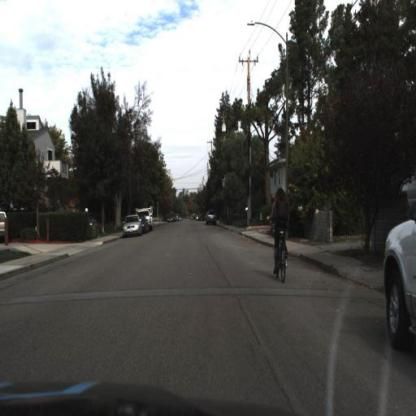biker: (267, 190, 291, 286)
car: (386, 195, 416, 361), (120, 213, 145, 242), (124, 210, 144, 238), (204, 204, 218, 230)
